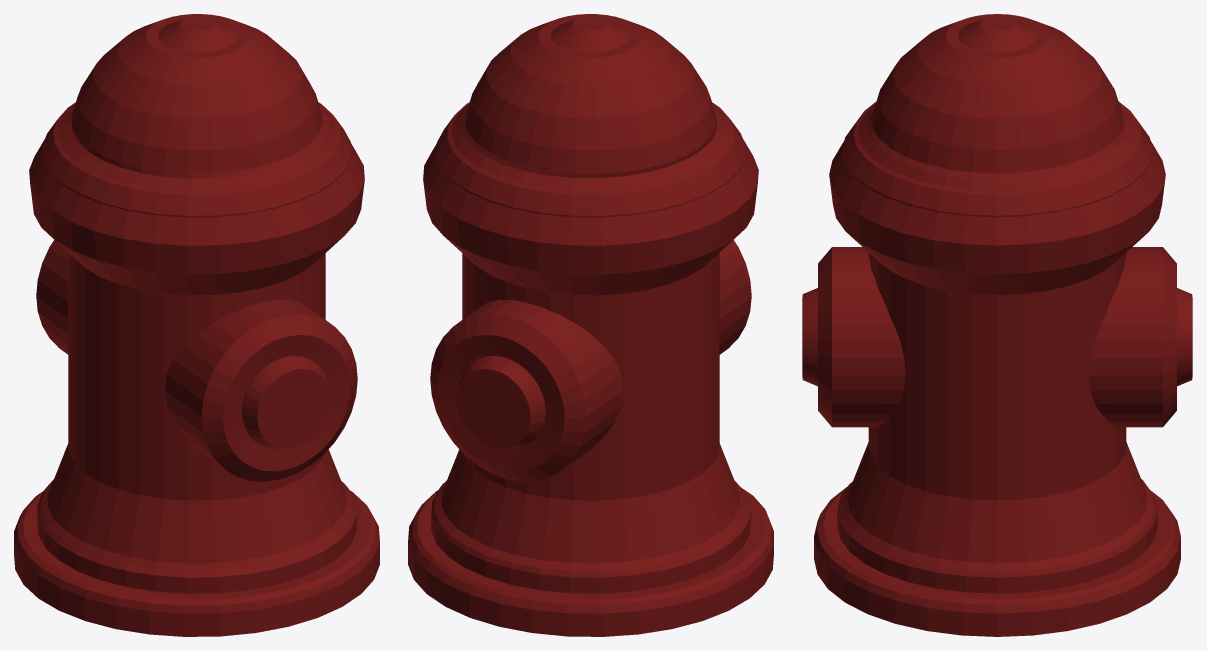
File: fire-hydrant.fbx
3 views of the same model, side by side, from view 1: azimuth 30°, elevation 25°; view 2: azimuth 150°, elevation 25°; view 3: azimuth 270°, elevation 25° (orthographic).
Visible parts, largest first — view 1: Cylinder.020; view 2: Cylinder.020; view 3: Cylinder.020.
Boxes of the visible parts, left/top/right/bottom form: Cylinder.020: left=14, top=14, right=379, bottom=636; Cylinder.020: left=408, top=14, right=773, bottom=636; Cylinder.020: left=802, top=14, right=1192, bottom=636.
Size of the model in its own units: 153 by 247 by 163.
